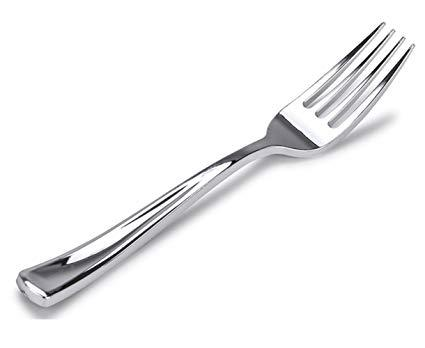Fork: (15, 21, 415, 307)
